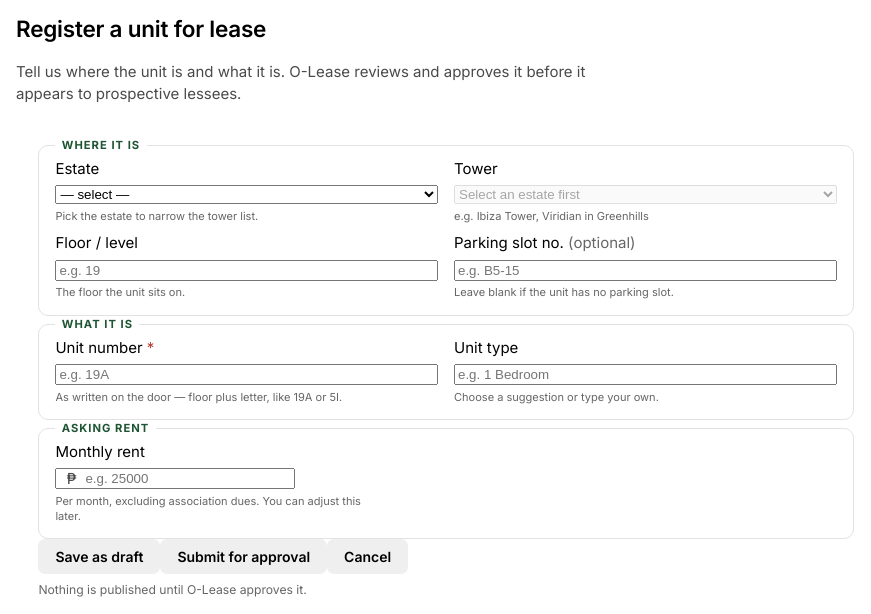
Test: RegisterUnitView › loads towers only after an estate is chosen
The image size is (871, 614).
expect the dropdown with id "towerId" is disabled: met, box [454, 185, 837, 204]
Select "Circulo Verde" in the dropdown with id "estateId": (247, 194) [55, 185, 438, 204]
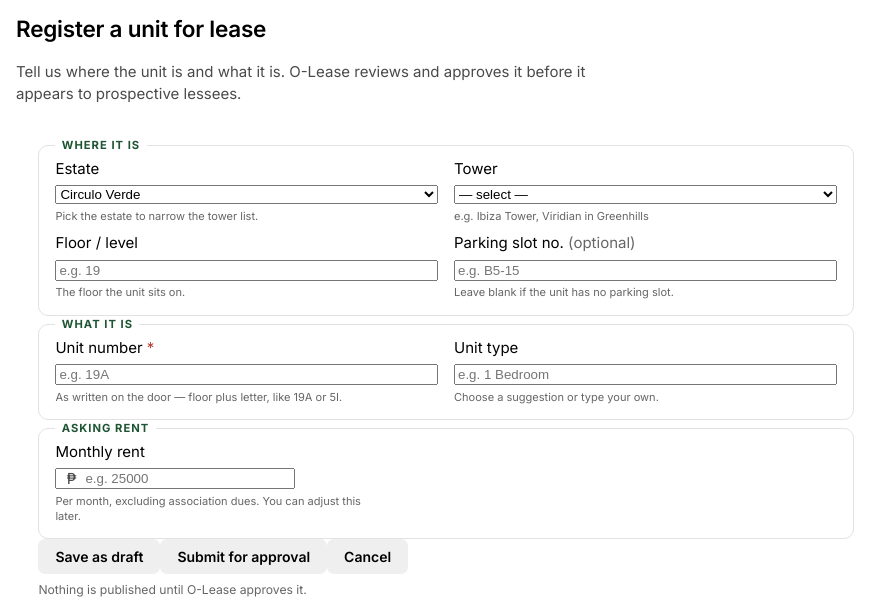
expect the dropdown with id "towerId" is enabled: met, box [454, 185, 837, 204]
